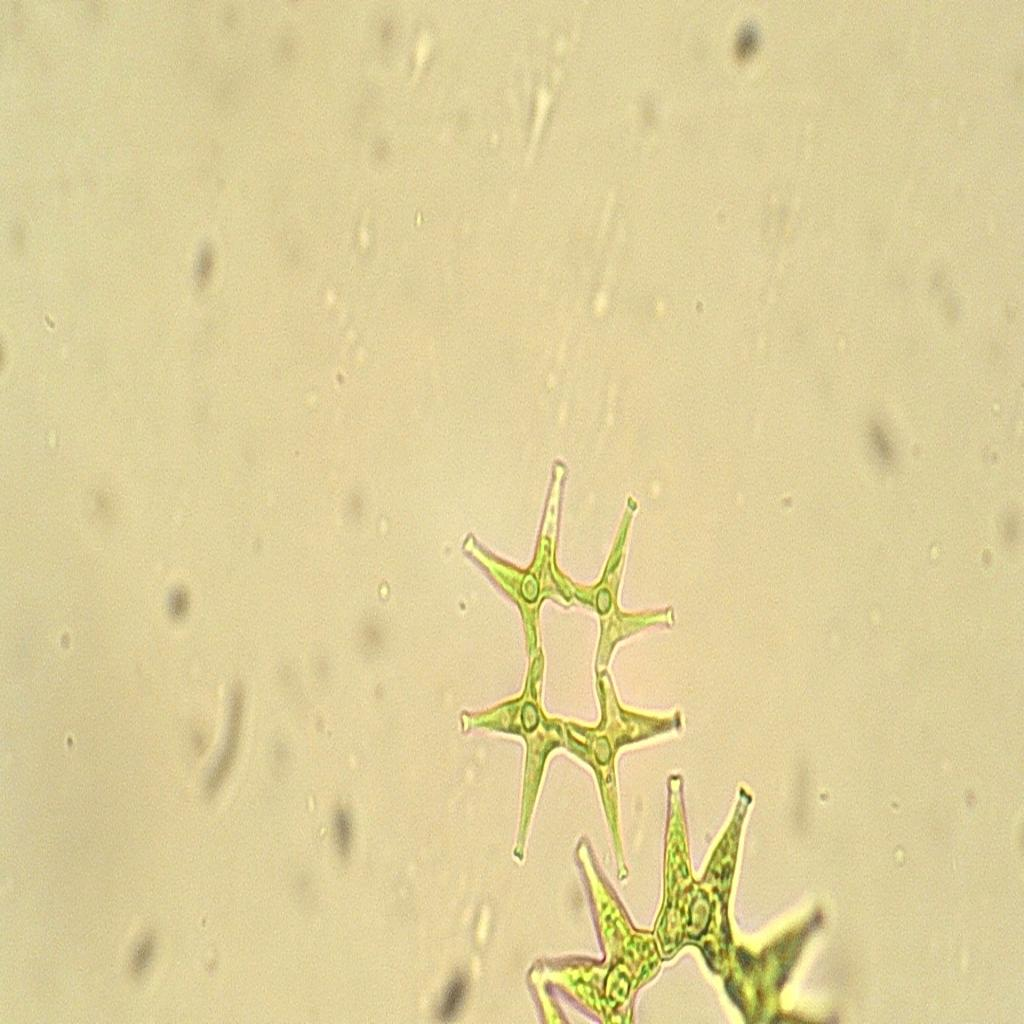Pediastrum_75O: (449, 430, 698, 904)
